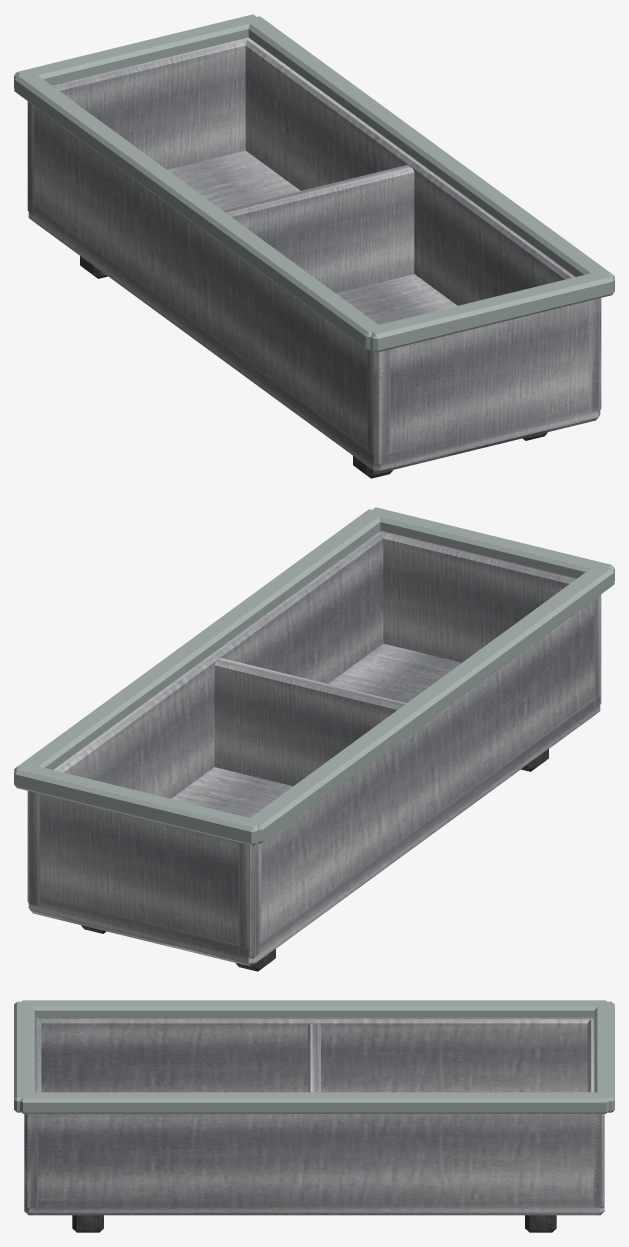
File: BarnCozy_Trough2.fbx
3 views of the same model, one above another, from view 1: azimuth 30°, elevation 25°; view 2: azimuth 150°, elevation 25°; view 3: azimuth 270°, elevation 25° (orthographic). The views are drawn at different scales.
Visible parts, largest first — view 1: BarnCozy_Trough2; view 2: BarnCozy_Trough2; view 3: BarnCozy_Trough2.
Part boxes in pixels (x1,y1,x2,y2): BarnCozy_Trough2: [14, 14, 614, 478]; BarnCozy_Trough2: [14, 507, 614, 971]; BarnCozy_Trough2: [14, 1000, 614, 1232].
Size of the model in its own units: 0.985 by 0.675 by 2.48.
